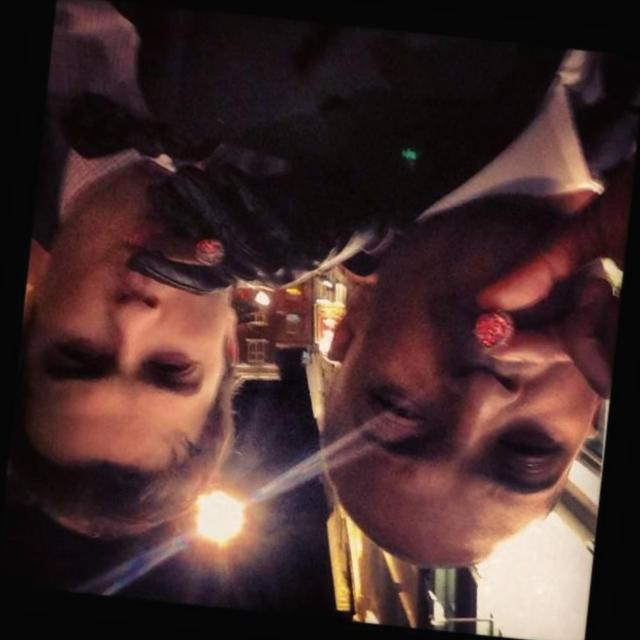cigarette: (128, 228, 228, 274), (458, 302, 516, 364)
